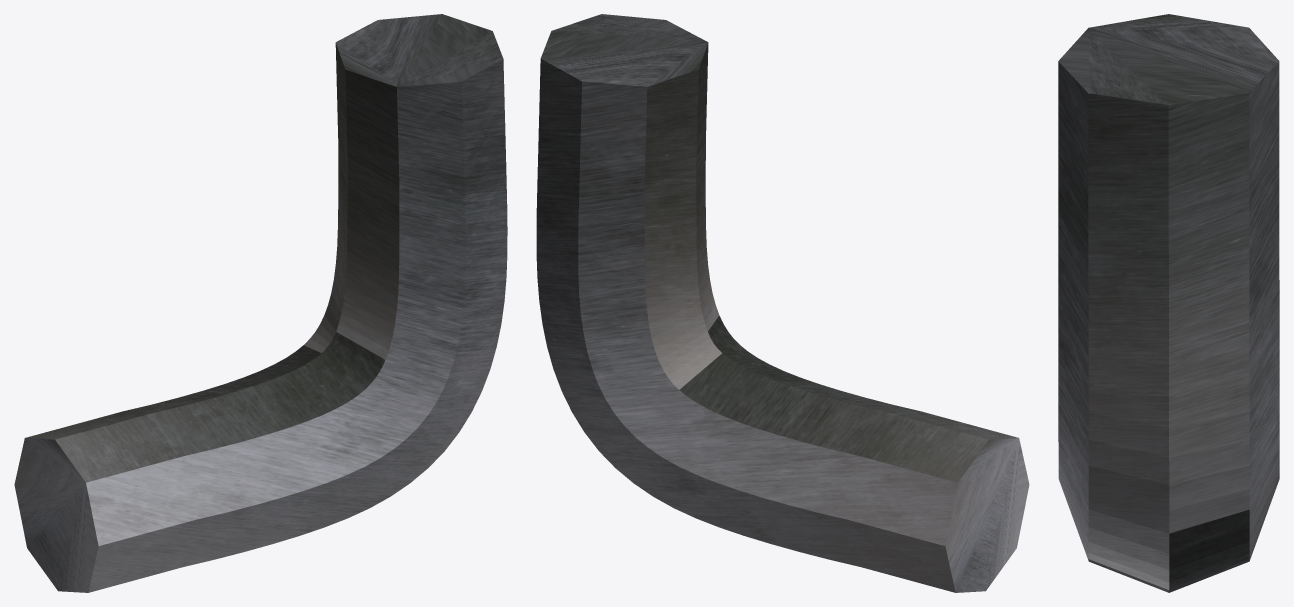
The model's file is tubo2feo.fbx.
3 renders of one model, left to right at view 1: azimuth 30°, elevation 25°; view 2: azimuth 150°, elevation 25°; view 3: azimuth 270°, elevation 25°, orthographic. The views are drawn at different scales.
Parts seen in each view (by area): view 1: BézierCurve; view 2: BézierCurve; view 3: BézierCurve.
Part boxes in pixels (<box>): BézierCurve: <box>14,14,507,592</box>; BézierCurve: <box>536,14,1029,592</box>; BézierCurve: <box>1058,14,1279,592</box>.
Size of the model in its own units: 260 by 255 by 85.78.
1 material, 1 textured.
